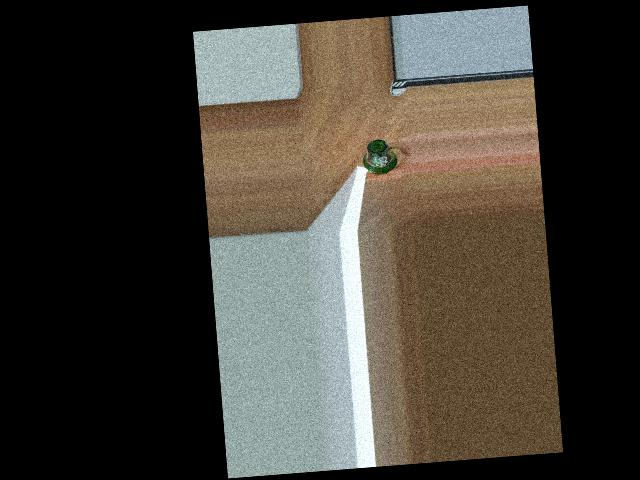beer: (361, 138, 399, 174)
